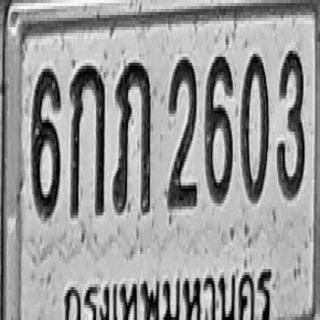A01: (70, 61, 105, 217)
A32: (112, 60, 152, 215)
N00: (240, 49, 269, 202)
N02: (167, 55, 197, 211)
N03: (277, 48, 304, 197)
N06: (31, 66, 61, 218), (205, 54, 233, 203)
